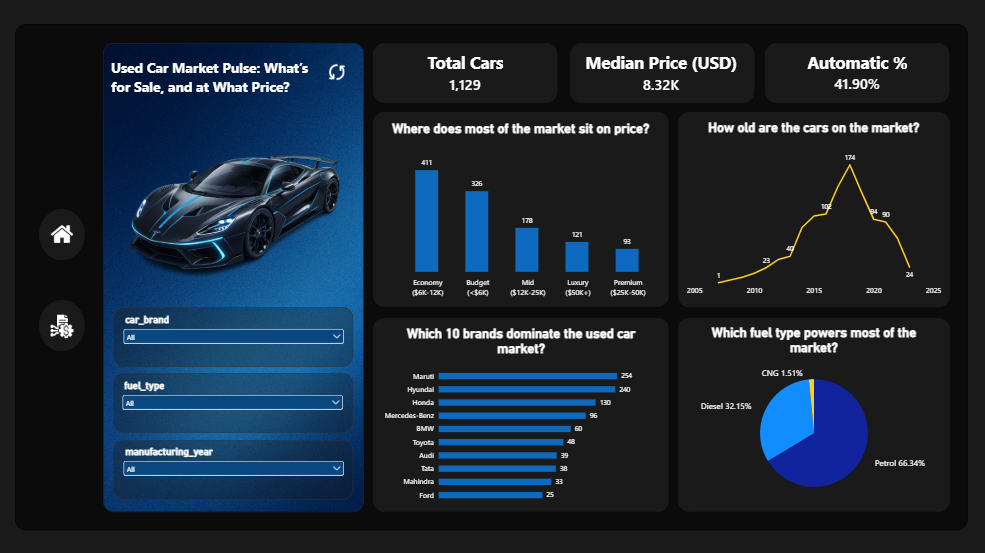

What the dashboard file says about the page in this screenshot:
{"tool":"powerbi","page":{"name":"Page 1","canvas":[1920,1080],"ordinal":1},"visuals":[{"type":"shape","box":[38,50,1844,980],"z":0},{"type":"shape","box":[731.6,87.1,357.5,116.1],"z":0,"group":"g1"},{"type":"shape","box":[84.6,408.8,88.8,99],"z":0,"group":"g2"},{"type":"shape","box":[1112.4,87.1,357.5,116.1],"z":1000,"group":"g1"},{"type":"shape","box":[84.6,584.4,88.8,99],"z":1000,"group":"g2"},{"type":"shape","box":[1321.9,619.4,526.5,375.5],"z":1000},{"type":"shape","box":[1490.9,87.1,357.5,116.1],"z":2000,"group":"g1"},{"type":"shape","box":[731.6,619.4,572.9,375.5],"z":2000},{"type":"shape","box":[731.6,220.6,572.9,377.4],"z":3000},{"type":"group","id":"g1","title":"Group 2","box":[731.6,87.1,1116.8,116.1],"z":4000},{"type":"image","box":[209,87.1,505.2,907.7],"z":5000},{"type":"textbox","box":[225,115.6,406.7,125.9],"z":6000},{"type":"image","box":[631.7,123.9,61.9,38.7],"z":7000},{"type":"image","box":[208.5,220.9,505.8,415],"z":8000},{"type":"shape","box":[228.4,598.1,464.5,116.1],"z":9000},{"type":"shape","box":[228.4,725.8,464.5,116.1],"z":10000},{"type":"shape","box":[228.4,855.5,464.5,116.1],"z":11000},{"type":"group","id":"g2","title":"Group 1","box":[84.6,408.8,88.8,274.6],"z":12000},{"type":"image","box":[84.6,435.6,89,42.6],"z":13000},{"type":"image","box":[84.6,609,88.8,51.6],"z":14000},{"type":"slicer","fields":{"Values":["Used Cars.car_brand"]},"box":[243.6,611.1,435.6,103.2],"z":15000},{"type":"cardVisual","fields":{"Data":["CountNonNull(Used Cars.car_name)"]},"box":[730.8,86.7,357.2,115.6],"z":16000},{"type":"cardVisual","fields":{"Data":["Dax.Median Price (Lakhs)"]},"box":[1110.7,86.7,357.2,115.6],"z":17000},{"type":"cardVisual","fields":{"Data":["Dax.Automatic %"]},"box":[1490.6,97,357.2,95],"z":18000},{"type":"clusteredBarChart","title":"Which 10 brands dominate the used car market?","fields":{"Category":["Used Cars.car_brand"],"Y":["CountNonNull(Used Cars.car_name)"]},"box":[730.8,619.4,573.9,375.7],"z":19000},{"type":"clusteredColumnChart","title":"Where does most of the market sit on price?","fields":{"Category":["Used Cars.price_segment"],"Y":["CountNonNull(Used Cars.car_name)"]},"box":[731.6,222.6,572.9,375.5],"z":20000},{"type":"pieChart","title":"Which fuel type powers most of the market?","fields":{"Category":["Used Cars.fuel_type"],"Y":["CountNonNull(Used Cars.car_name)"]},"box":[1321.9,617.4,526.5,377.4],"z":21000},{"type":"shape","box":[1321.3,220.9,526.5,377.8],"z":22000},{"type":"lineChart","title":"How old are the cars on the market?","fields":{"Category":["Used Cars.manufacturing_year"],"Y":["CountNonNull(Used Cars.car_name)"]},"box":[1321.3,220.9,526.5,375.7],"z":23000},{"type":"slicer","fields":{"Values":["Used Cars.fuel_type"]},"box":[241.9,739.4,435.6,103.2],"z":24000},{"type":"slicer","fields":{"Values":["Used Cars.manufacturing_year"]},"box":[243.6,867.1,435.6,103.2],"z":25000}]}

Visuals, with their boxes in screenshot pixels (x1, y1, x2, y2), scaled from the page's 1920x1080 canvas onto the 985x553 screenshot:
shape: <box>19,26,966,527</box>
shape: <box>375,45,559,104</box>
shape: <box>43,209,89,260</box>
shape: <box>571,45,754,104</box>
shape: <box>43,299,89,350</box>
shape: <box>678,317,948,509</box>
shape: <box>765,45,948,104</box>
shape: <box>375,317,669,509</box>
shape: <box>375,113,669,306</box>
"Group 2" group: <box>375,45,948,104</box>
image: <box>107,45,366,509</box>
textbox: <box>115,59,324,124</box>
image: <box>324,63,356,83</box>
image: <box>107,113,366,326</box>
shape: <box>117,306,355,366</box>
shape: <box>117,372,355,431</box>
shape: <box>117,438,355,497</box>
"Group 1" group: <box>43,209,89,350</box>
image: <box>43,223,89,245</box>
image: <box>43,312,89,338</box>
slicer - Used Cars.car_brand: <box>125,313,348,366</box>
cardVisual - CountNonNull(Used Cars.car_name): <box>375,44,558,104</box>
cardVisual - Dax.Median Price (Lakhs): <box>570,44,753,104</box>
cardVisual - Dax.Automatic %: <box>765,50,948,98</box>
"Which 10 brands dominate the used car market?" clusteredBarChart: <box>375,317,669,510</box>
"Where does most of the market sit on price?" clusteredColumnChart: <box>375,114,669,306</box>
"Which fuel type powers most of the market?" pieChart: <box>678,316,948,509</box>
shape: <box>678,113,948,307</box>
"How old are the cars on the market?" lineChart: <box>678,113,948,305</box>
slicer - Used Cars.fuel_type: <box>124,379,348,431</box>
slicer - Used Cars.manufacturing_year: <box>125,444,348,497</box>
